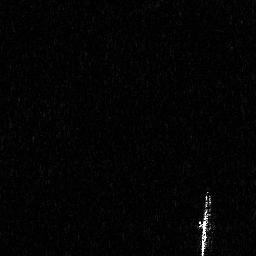ship: (198, 188, 216, 256)
